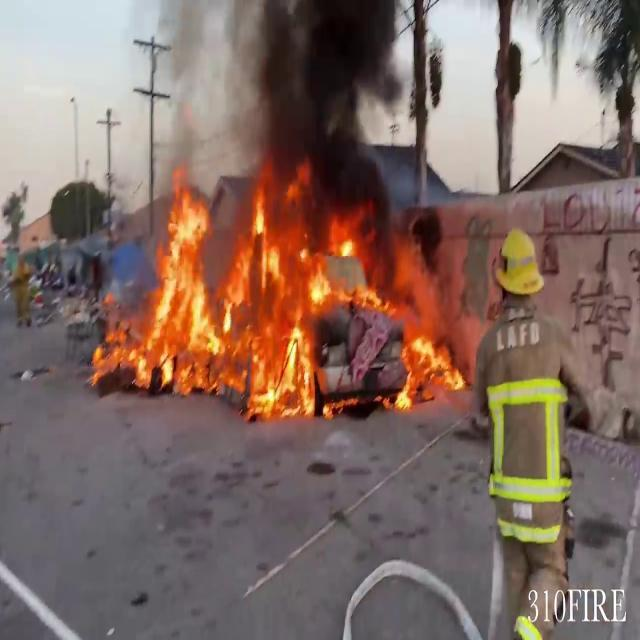Fire: (94, 166, 466, 415), (390, 316, 466, 409)
Smoke: (178, 0, 444, 191)
